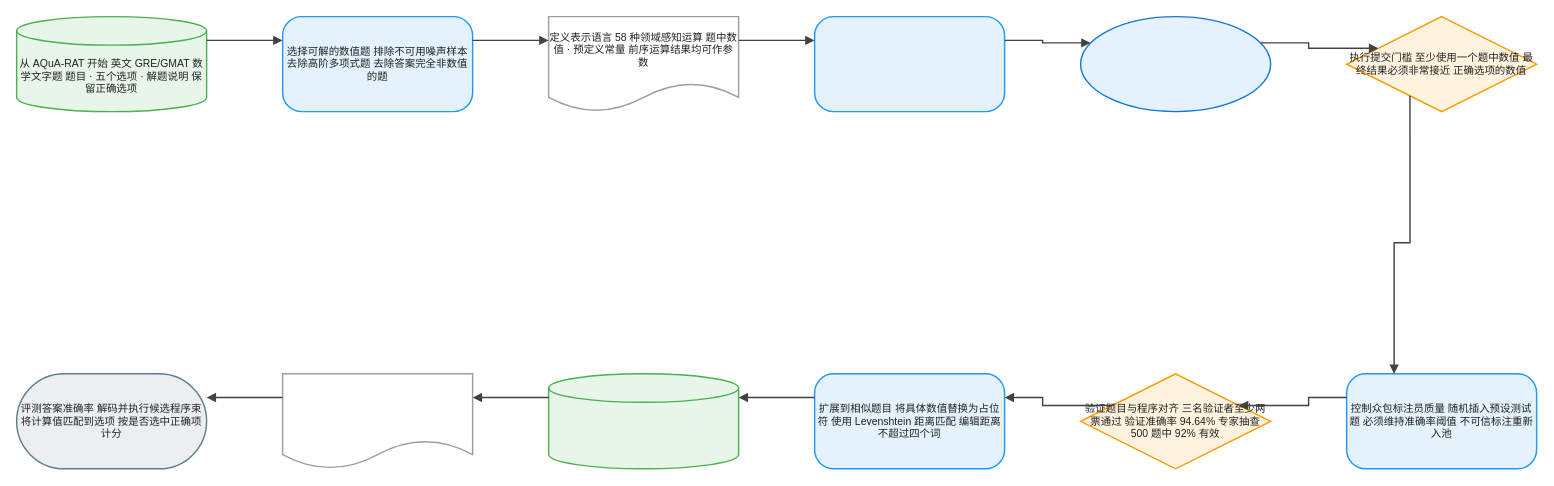
This 1554x486 diagram has some shape labels left out. Each missing label, with the centre of its shape:
"众包编写运算程序 依次选择运算和合法参数 每提交一步立即执行 将结果加入下一步参数列表" goes at point 1175,63.
"按词频划分数学领域 几何 · 物理 · 概率 盈亏 · 通用 · 其他 据此缩小可选运算范围" goes at point 909,63.
"汇总 MathQA 37,259 道题 · 五个选项 对齐的可执行运算程序 每个程序平均 5.3 步运算" goes at point 643,421.
"随机拆分数据集 训练集 · 80% 开发集 · 12% 测试集 · 8%" goes at point 377,421.
